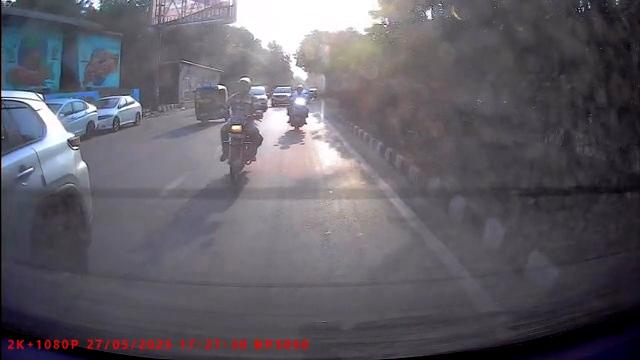motorcycle_with_helmet: (218, 75, 264, 182), (288, 85, 308, 132)
